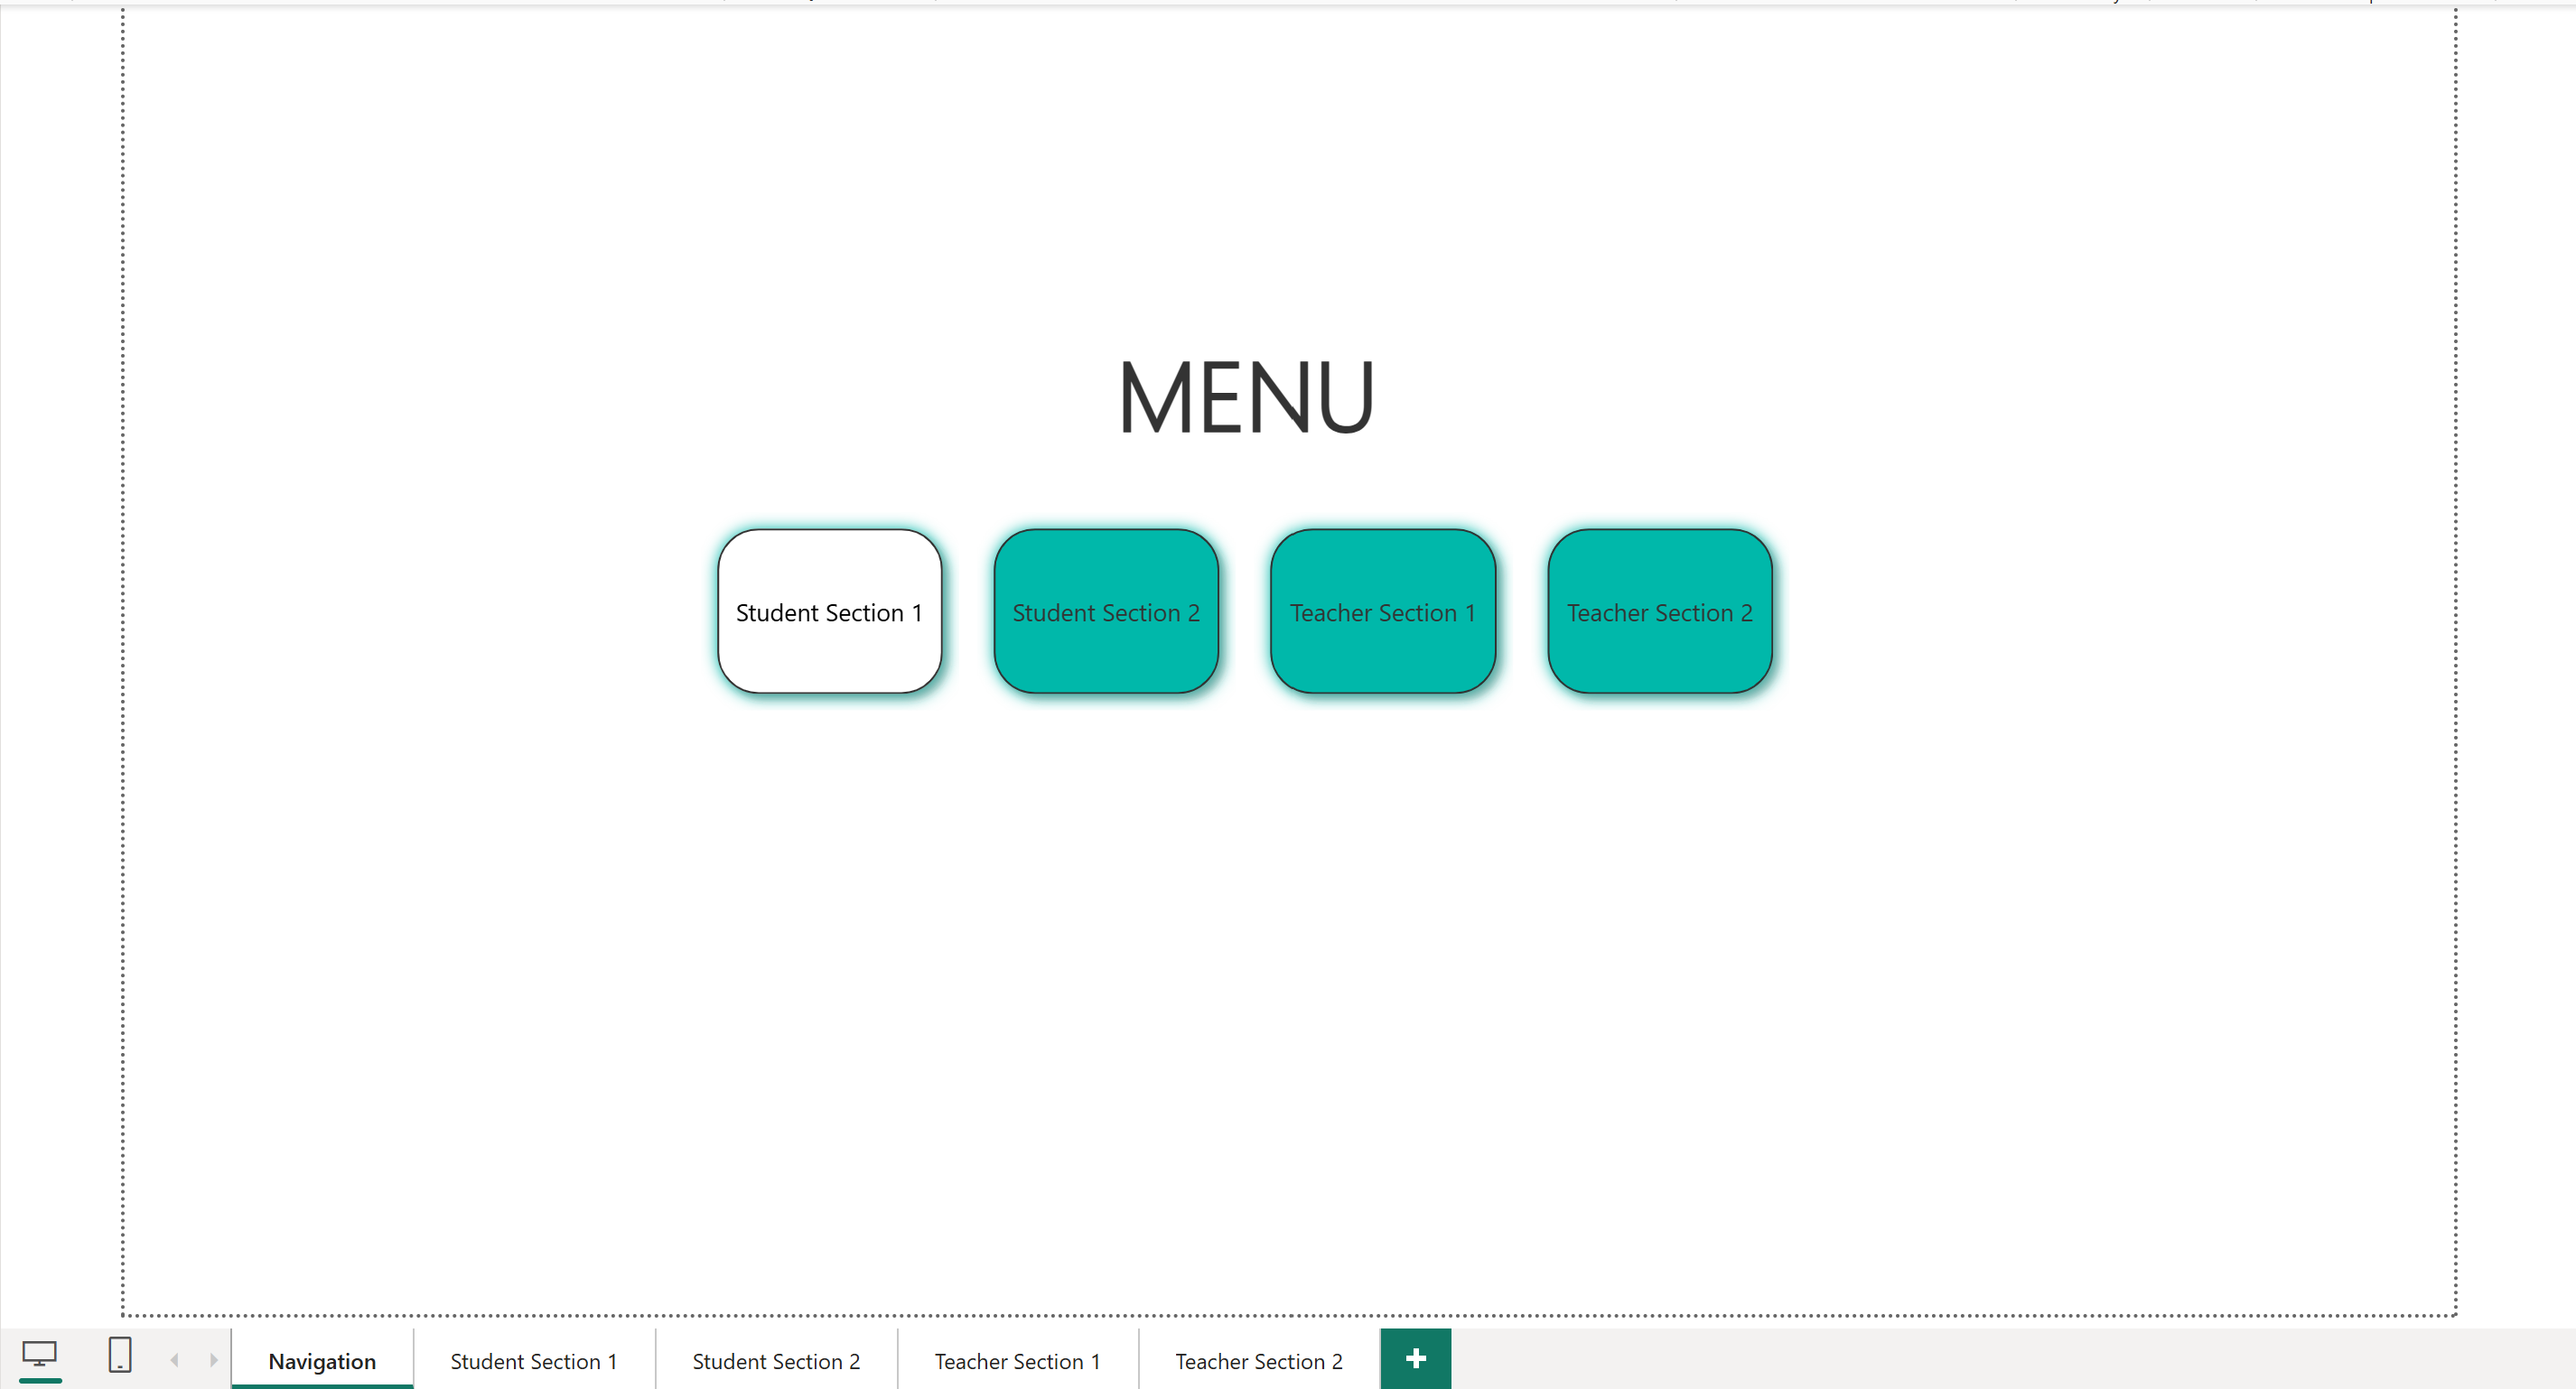

The page's visual inventory and layout, read from the dashboard file:
{"tool":"powerbi","page":{"name":"Navigation","canvas":[1280,720],"ordinal":0},"visuals":[{"type":"bookmarkNavigator","box":[316.8,278.8,599.9,109.8],"z":0},{"type":"textbox","box":[316.7,172.1,600.1,85.3],"z":1000}]}

Visuals, with their boxes on the page's 1280x720 design canvas (x1, y1, x2, y2). These are canvas units, not pixel positions in the 2576x1389 screenshot, which may show the page scaled, cropped or inside an application window:
bookmarkNavigator: box(317, 279, 917, 389)
textbox: box(317, 172, 917, 257)
